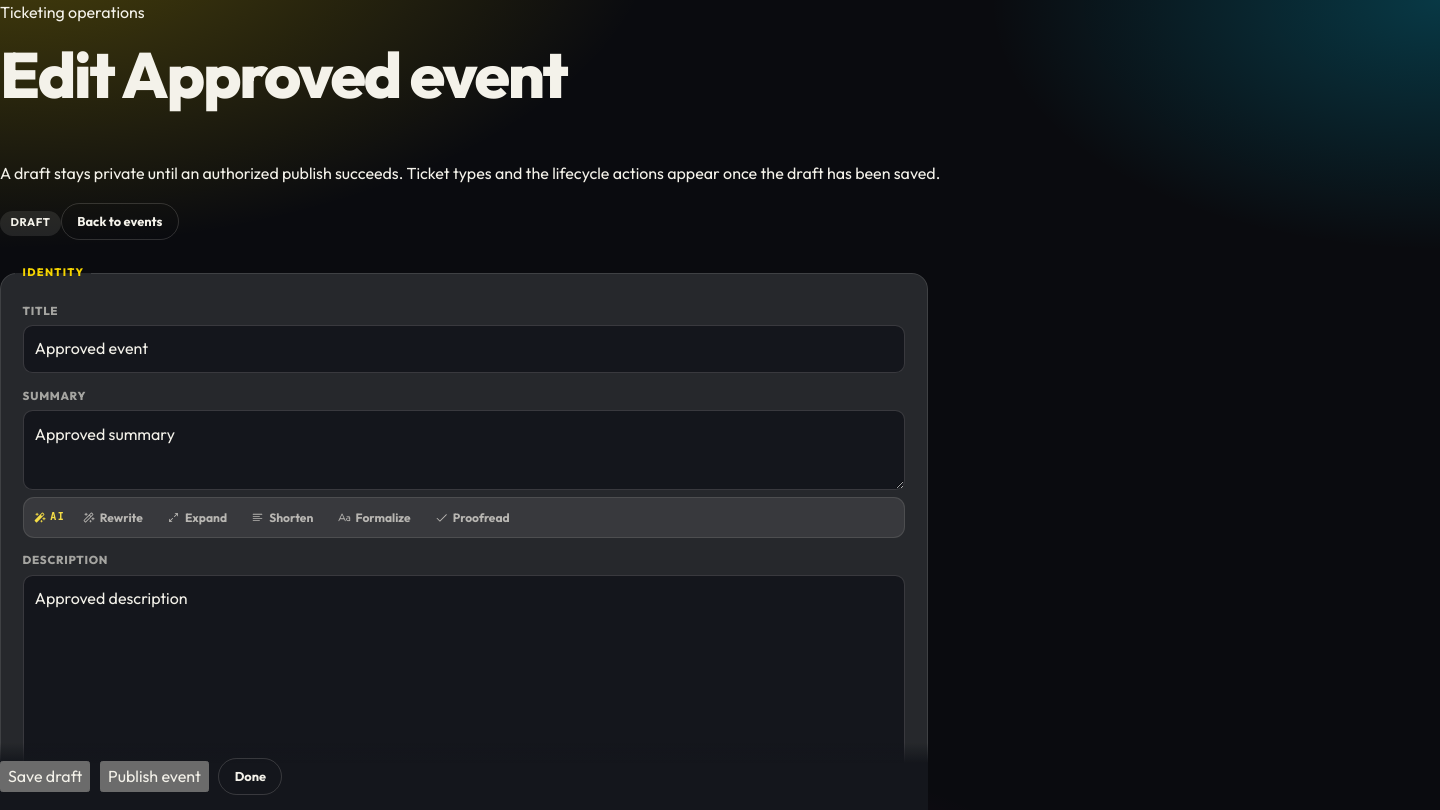
Test: EventEditor › reports publish invariant failures without changing client state
Click the button "Publish event": (154, 777) x1=100 y1=761 x2=209 y2=793
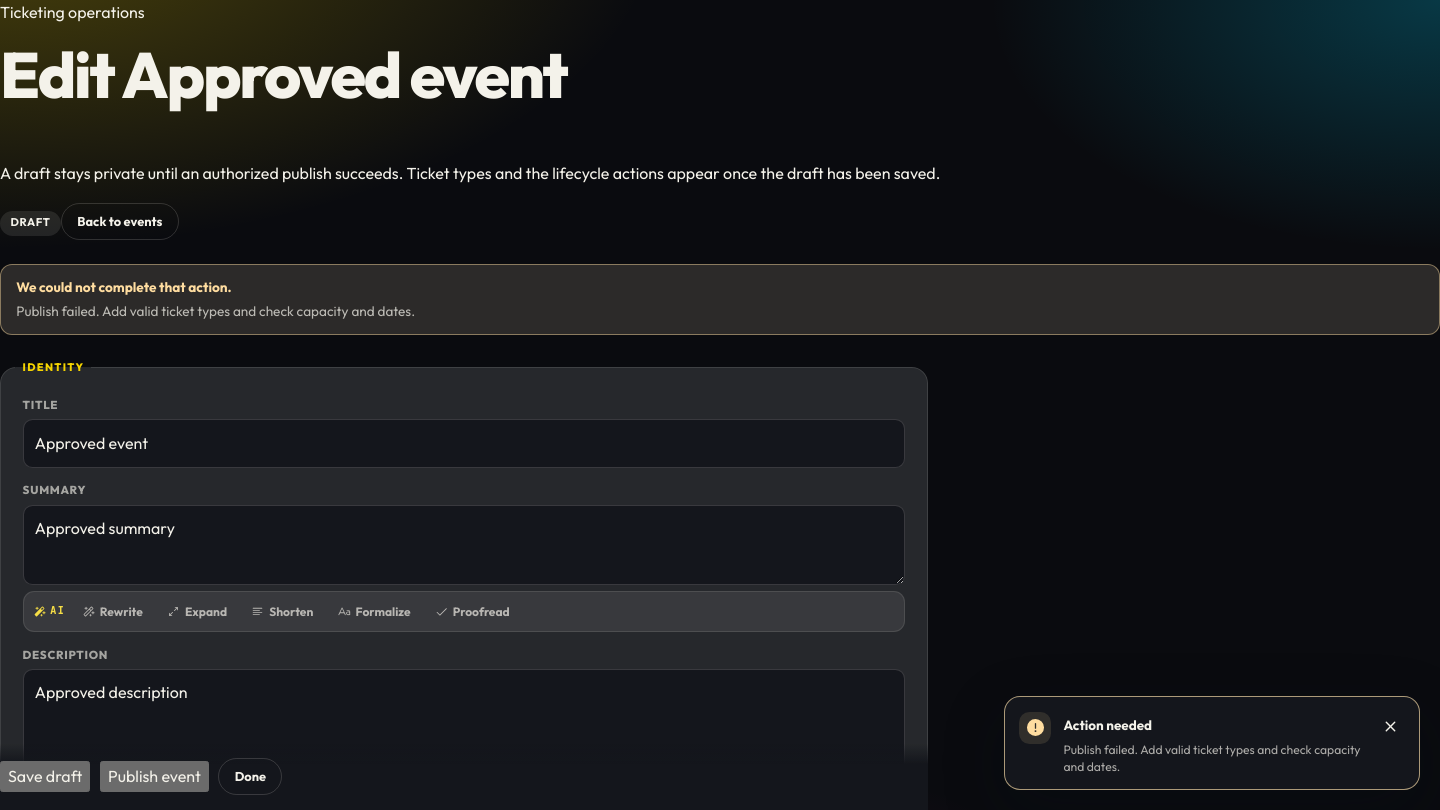
Expected: the message shows "Add valid ticket types", x1=1063 y1=742 x2=1361 y2=774
